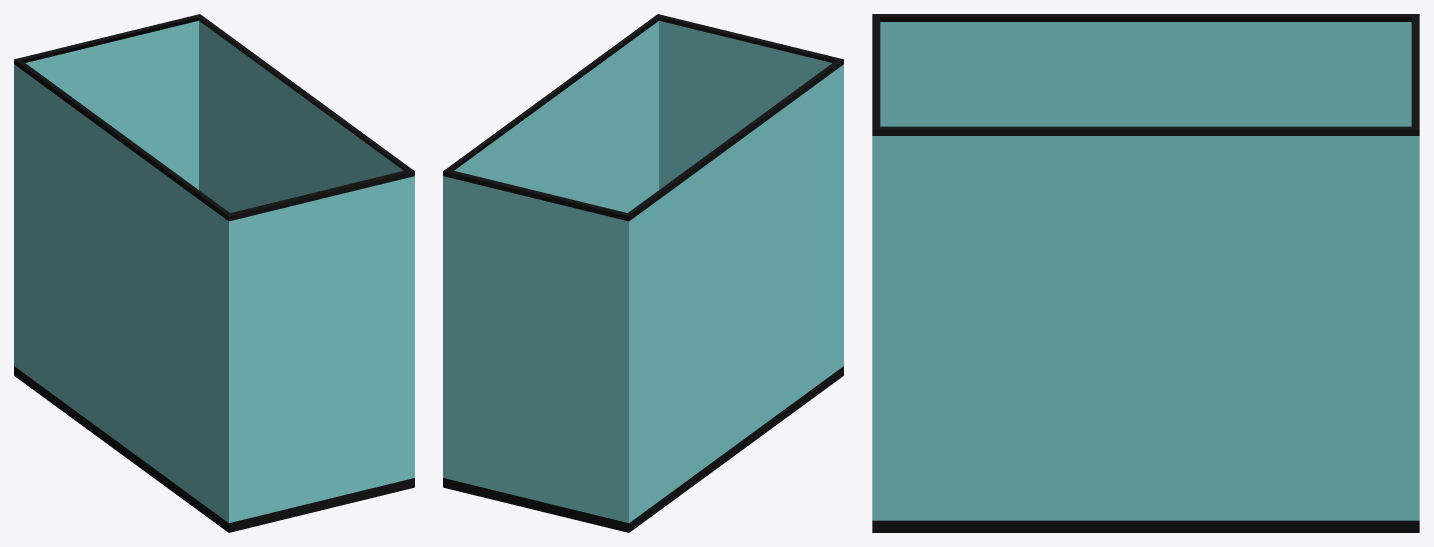
The model's file is aquarium.glb.
The picture shows the model from 3 angles, left to right: view 1: azimuth 30°, elevation 25°; view 2: azimuth 150°, elevation 25°; view 3: azimuth 270°, elevation 25°; orthographic projection. The views are drawn at different scales.
Parts seen in each view (by area): view 1: Cube.224; view 2: Cube.224; view 3: Cube.224.
Boxes of the visible parts, x1=… form: Cube.224: x1=14, y1=14, x2=414, y2=532; Cube.224: x1=443, y1=14, x2=843, y2=532; Cube.224: x1=872, y1=14, x2=1419, y2=532.
Size of the model in its own units: 2 by 3.33 by 4.
